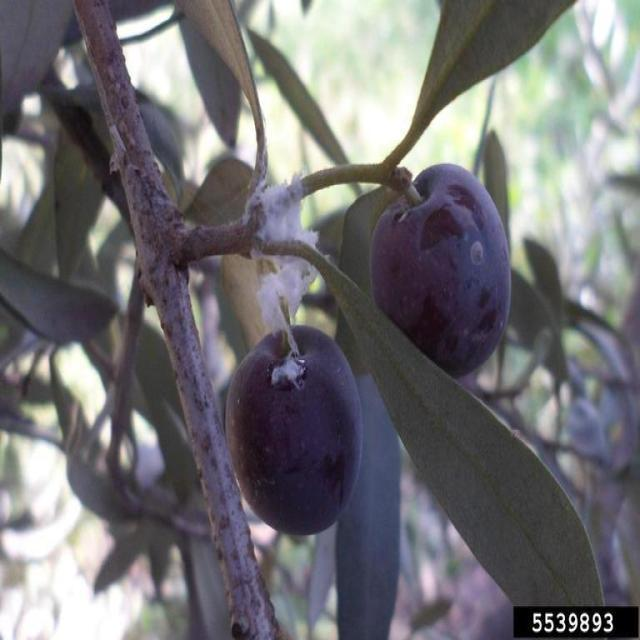Psyllid: (250, 241, 316, 397), (242, 132, 316, 242)
